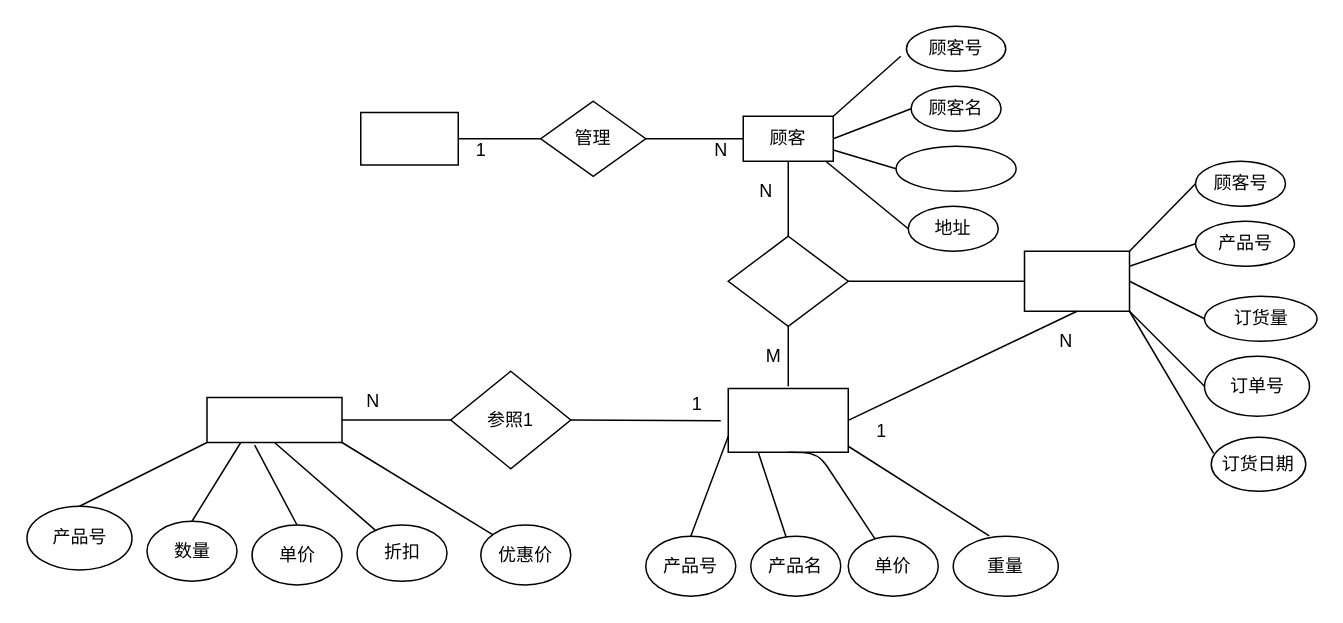
The diagram is 1343 pixels wide and 623 high, and some of its shapes have lost their labels. Here are the shapes that lost their labels. From the top down, the centre of each, then its label:
At (x=408, y=138): "管理员".
At (x=955, y=168): "电话".
At (x=787, y=280): "购买".
At (x=1076, y=280): "订单".
At (x=274, y=419): "折扣规则".
At (x=787, y=419): "产品".
